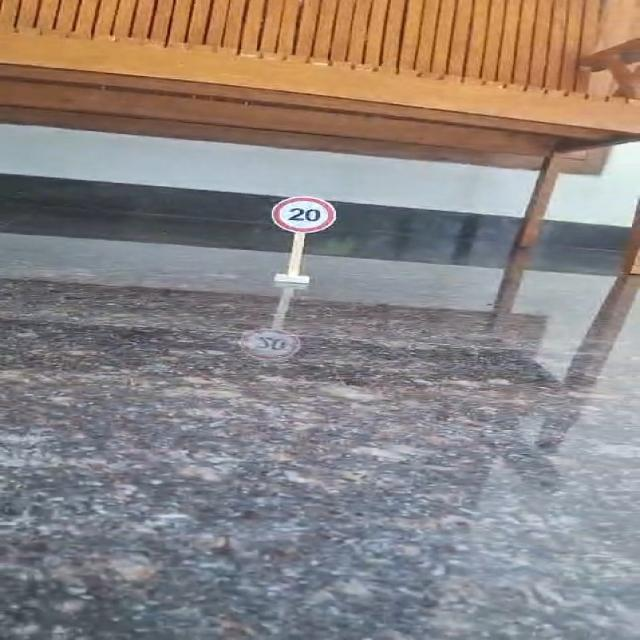Speed20: (264, 190, 343, 238)
